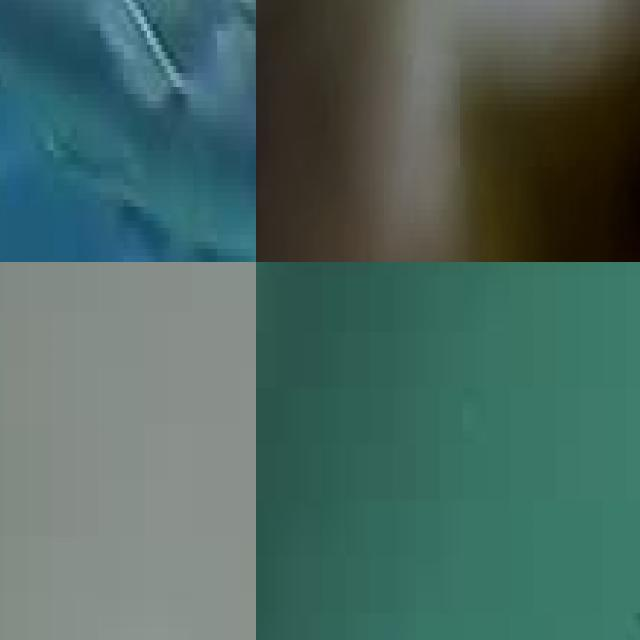fish: (0, 0, 256, 262), (460, 0, 640, 262)
